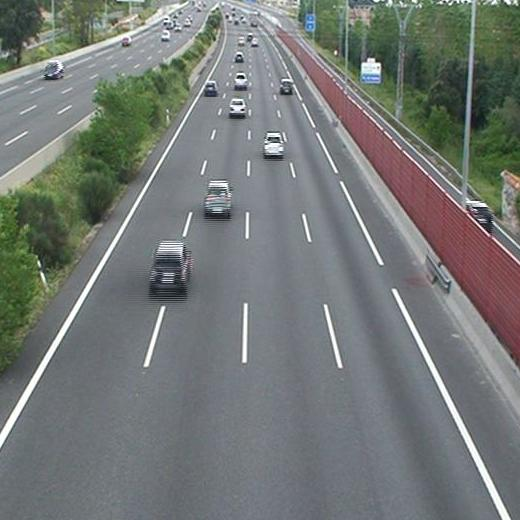car: (149, 242, 187, 290), (205, 181, 231, 213), (263, 133, 284, 156), (228, 98, 245, 114), (234, 74, 247, 87), (280, 80, 292, 94), (204, 82, 217, 93), (234, 53, 243, 62), (250, 37, 258, 46), (237, 37, 245, 45)
